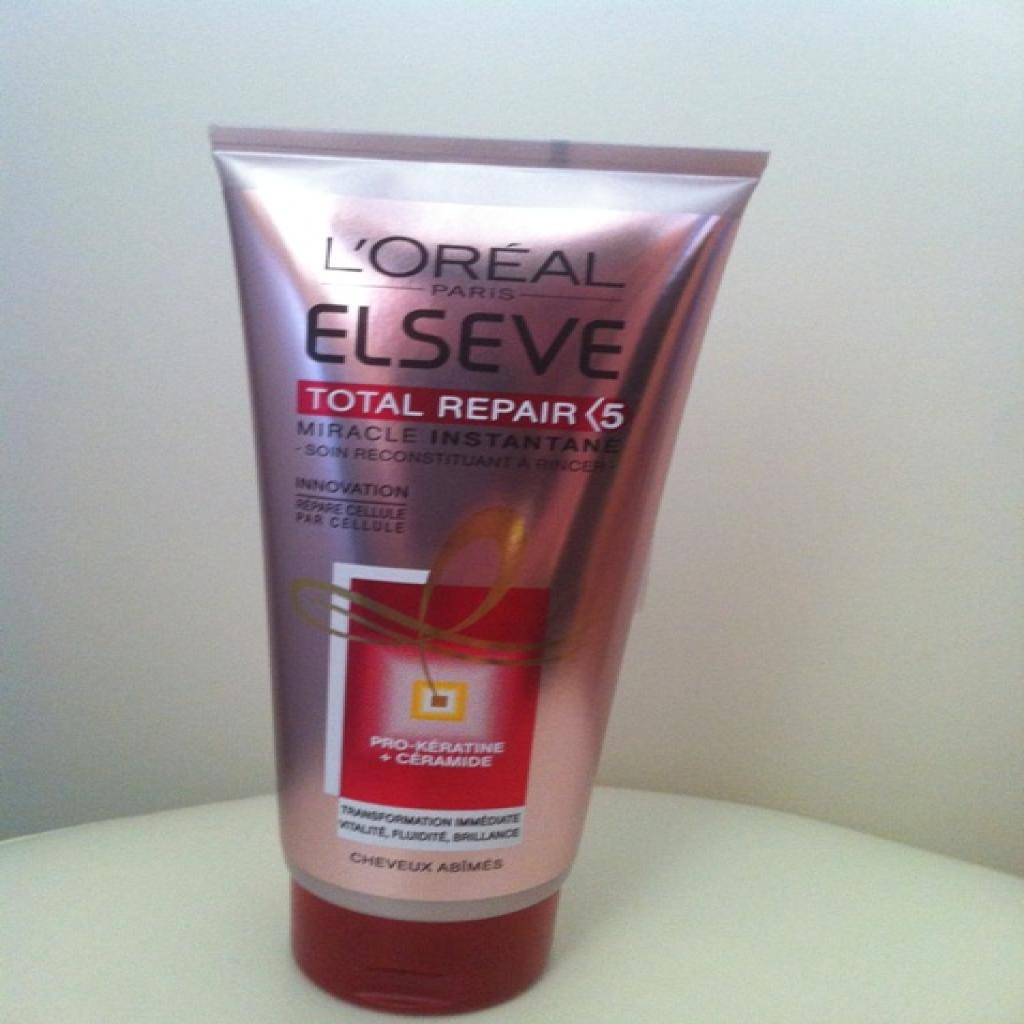organico: (120, 108, 783, 1024)
